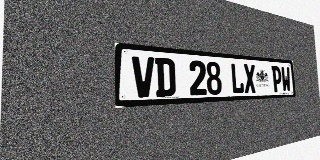2: (189, 60, 207, 96)
8: (206, 61, 222, 95)
D: (155, 57, 176, 97)
L: (230, 63, 244, 94)
P: (271, 66, 282, 92)
V: (132, 56, 155, 98)
W: (281, 66, 291, 92)
X: (243, 64, 256, 93)
